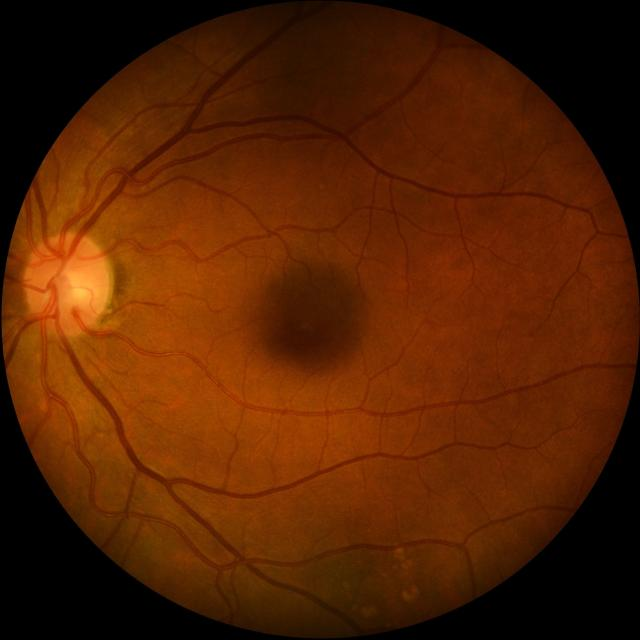OC: (49, 262, 92, 309)
OD: (24, 233, 112, 335)
